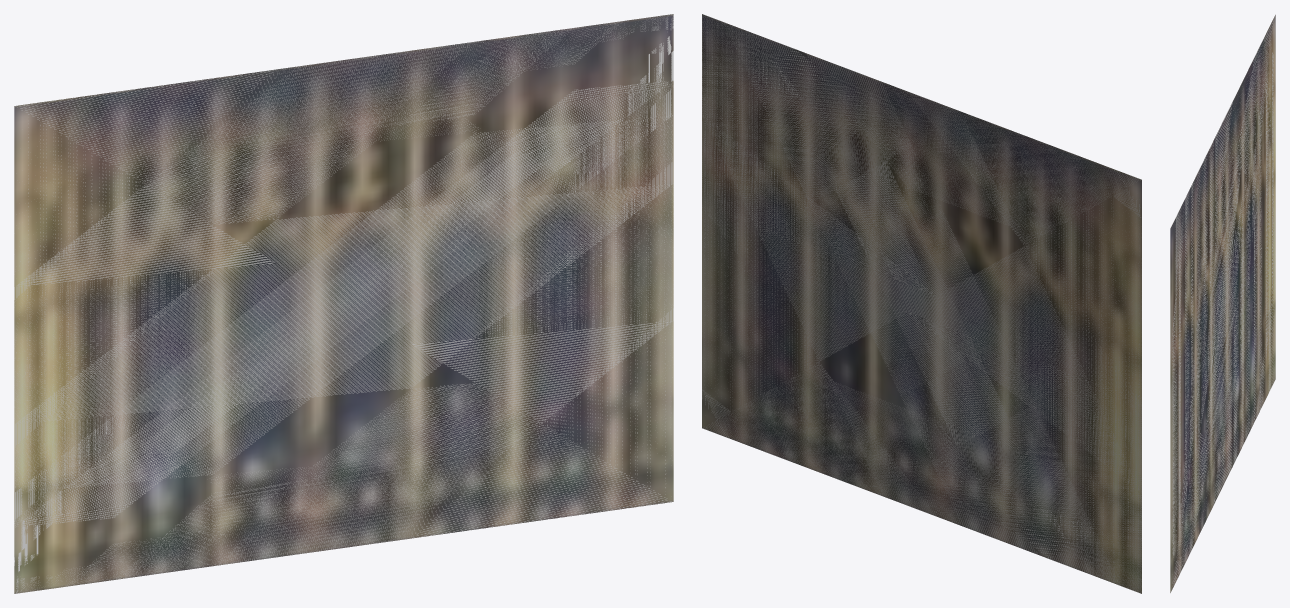
The model's file is 大本钟195.dae.
3 views of the same model, side by side, from view 1: azimuth 30°, elevation 25°; view 2: azimuth 150°, elevation 25°; view 3: azimuth 270°, elevation 25° (orthographic). The views are drawn at different scales.
Visible parts, largest first — view 1: SketchUp; view 2: SketchUp; view 3: SketchUp.
Part boxes in pixels (x1,y1,x2,y2): SketchUp: (14,14,673,593); SketchUp: (702,14,1141,593); SketchUp: (1170,14,1275,593).
Size of the model in its own units: 213 by 44.2 by 169.
2 materials, 1 textured.
